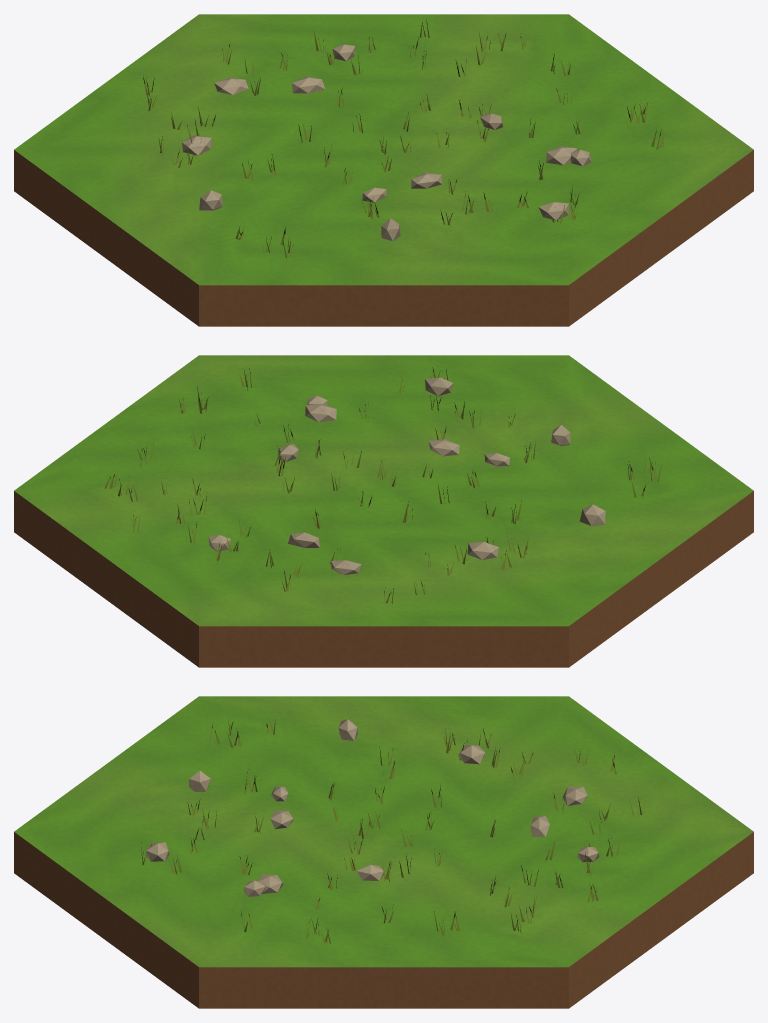
File: SM_LlanuraNatural_A_LOD0.fbx
The picture shows the model from 3 angles, top to bottom: view 1: azimuth 30°, elevation 25°; view 2: azimuth 150°, elevation 25°; view 3: azimuth 270°, elevation 25°; orthographic projection.
Visible parts, largest first — view 1: SM_LlanuraNatural_A_LOD0; view 2: SM_LlanuraNatural_A_LOD0; view 3: SM_LlanuraNatural_A_LOD0.
Part boxes in pixels (bbox=[...]): SM_LlanuraNatural_A_LOD0: bbox=[14, 14, 753, 326]; SM_LlanuraNatural_A_LOD0: bbox=[14, 355, 753, 667]; SM_LlanuraNatural_A_LOD0: bbox=[14, 696, 753, 1008].
Bounding box in the file's own units: 1.68 × 0.1874 × 1.94.
Materials: 1 (1 with a texture image).
